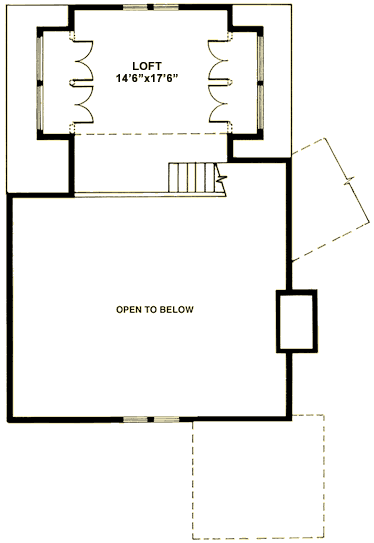door: (206, 35, 233, 82), (68, 39, 94, 82), (68, 84, 95, 125), (208, 83, 229, 126)
stairs: (163, 159, 225, 196)
windows: (34, 34, 44, 131), (117, 414, 184, 428), (256, 35, 265, 132), (117, 1, 179, 14)
